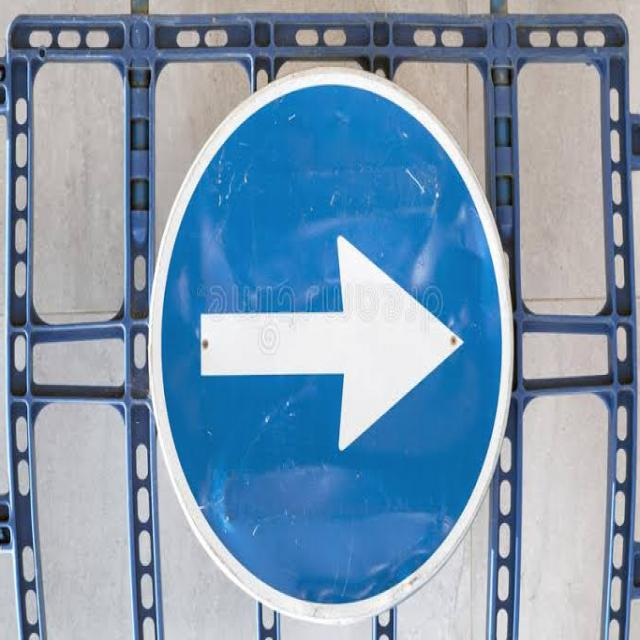Turn Right: (148, 66, 506, 626)
